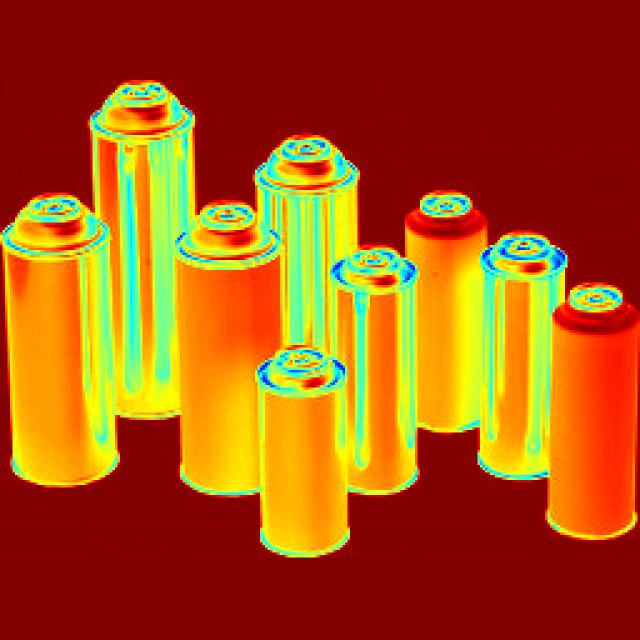Aerosol Cans: (4, 182, 123, 509), (90, 57, 191, 437), (180, 182, 276, 511), (329, 218, 426, 528), (244, 109, 364, 357), (489, 210, 578, 490), (259, 334, 353, 578), (557, 273, 640, 540), (414, 187, 493, 452)
